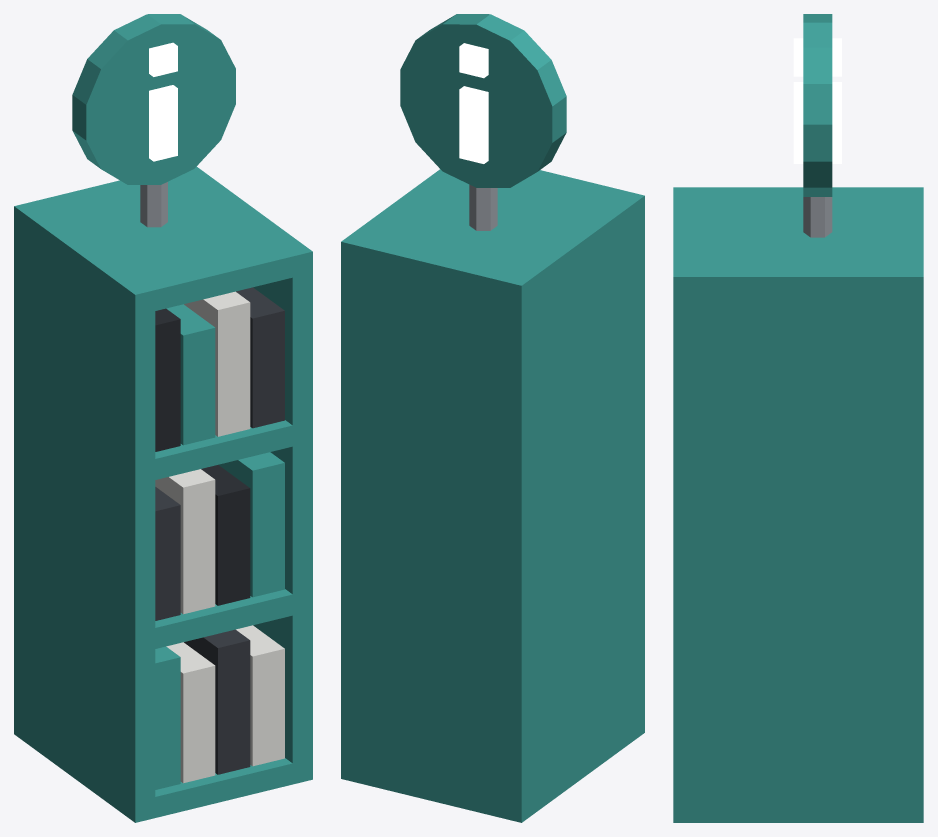
File: selfservice_m0_2.glb
3 renders of one model, left to right at view 1: azimuth 30°, elevation 25°; view 2: azimuth 150°, elevation 25°; view 3: azimuth 270°, elevation 25°, orthographic. The views are drawn at different scales.
Parts seen in each view (by area): view 1: selfservice_m0_2_mesh; view 2: selfservice_m0_2_mesh; view 3: selfservice_m0_2_mesh.
Part boxes in pixels (x1,y1,x2,y2): selfservice_m0_2_mesh: (14,14,312,822); selfservice_m0_2_mesh: (341,14,644,822); selfservice_m0_2_mesh: (673,14,923,822).
Bounding box in the file's own units: 0.22 × 0.865 × 0.26.
